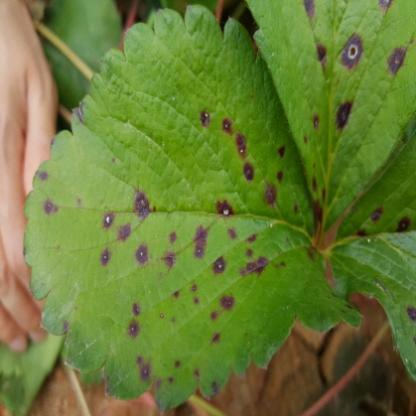Strawberry_Leaf_Spot: (23, 3, 362, 415), (244, 0, 415, 238), (324, 117, 415, 385)
